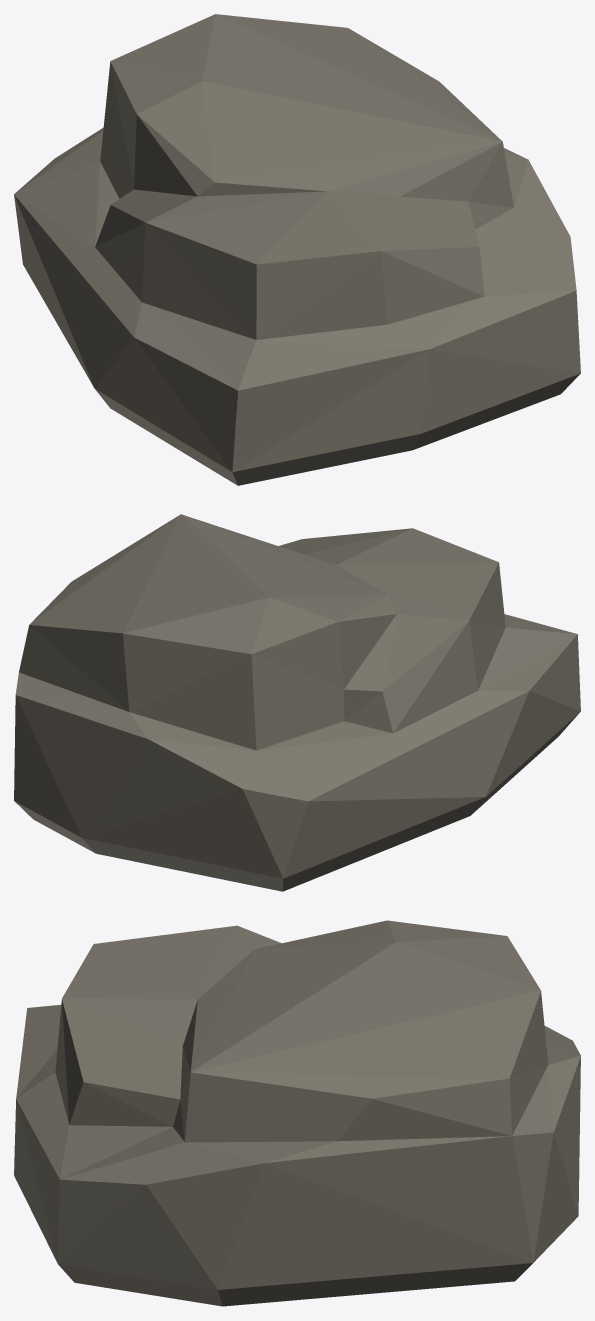
The model's file is rock__rock5_cave_light.glb.
3 views of the same model, one above another, from view 1: azimuth 30°, elevation 25°; view 2: azimuth 150°, elevation 25°; view 3: azimuth 270°, elevation 25° (orthographic). The views are drawn at different scales.
Visible parts, largest first — view 1: rock5.cave.light; view 2: rock5.cave.light; view 3: rock5.cave.light.
Boxes of the visible parts, x1,y1,x2,y2 form: rock5.cave.light: [14, 14, 580, 485]; rock5.cave.light: [14, 514, 580, 891]; rock5.cave.light: [14, 920, 580, 1306].
Size of the model in its own units: 3.27 by 1.74 by 3.67.
1 material, 1 textured.
